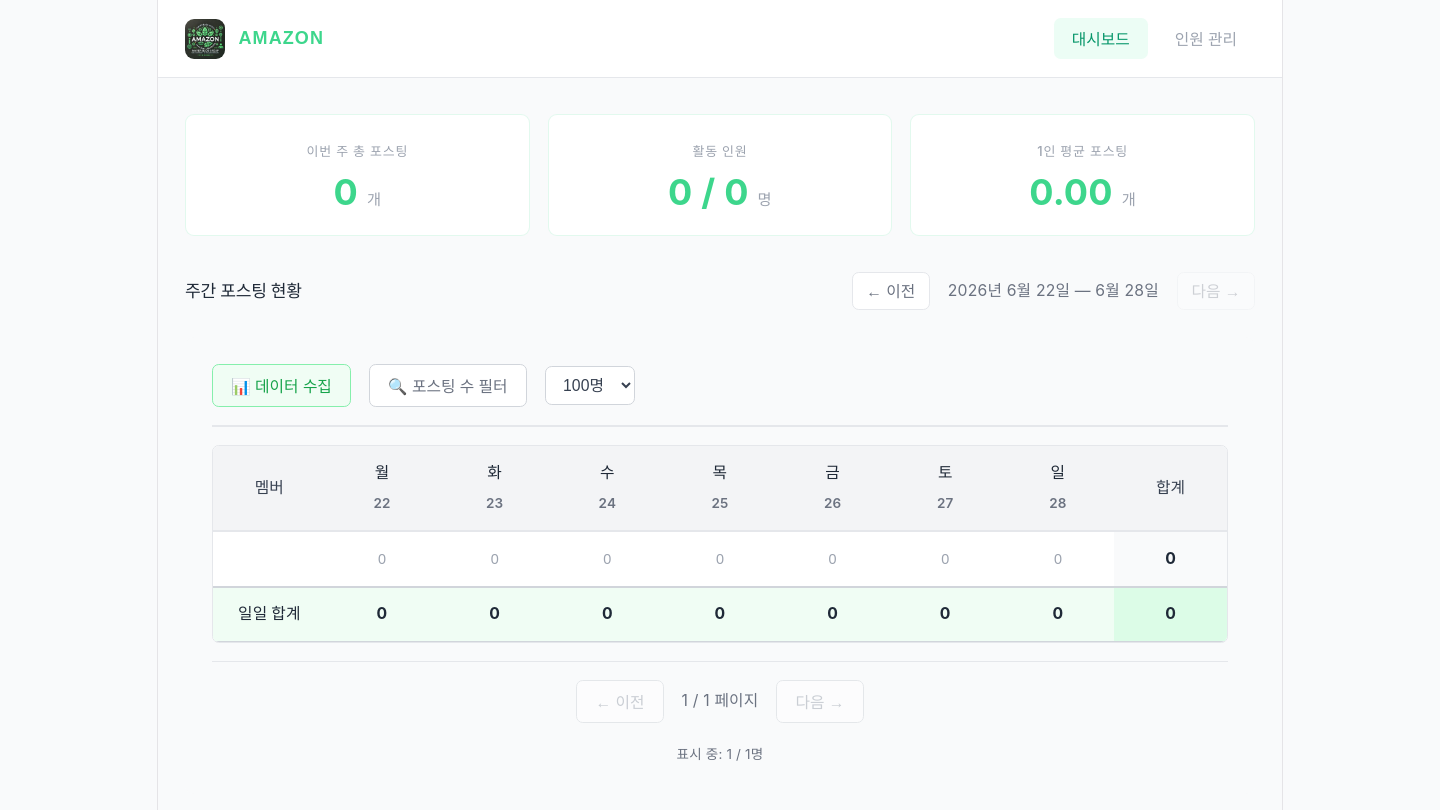
Scenario: App › 탭 전환 › should switch to members tab
What coordinates should you click on to do the following:
click the button "인원 관리"
I would click on:
 (1206, 38)
Its box is [1157,18,1255,59].
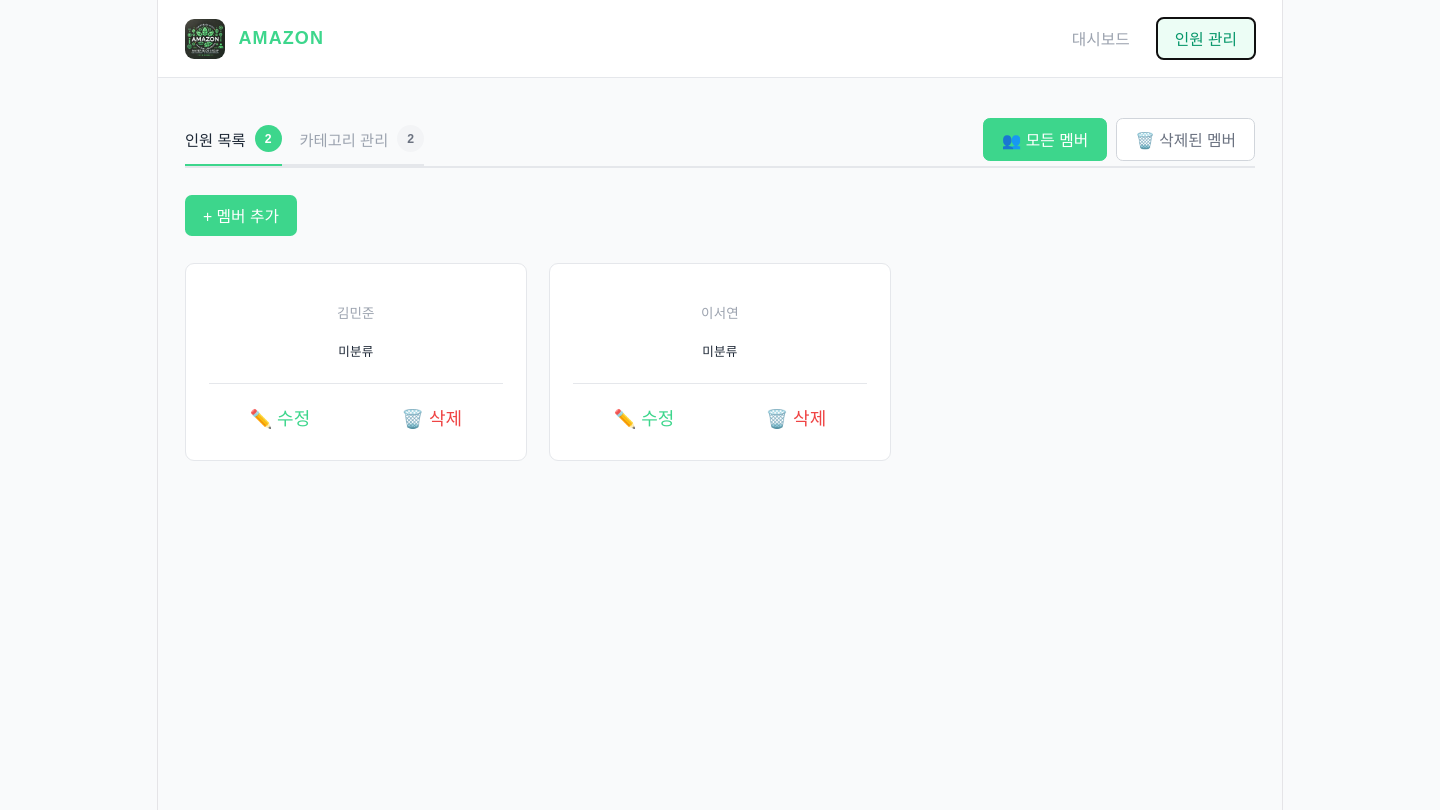
Check: the button "+ 멤버 추가" is shown, box [185,194,297,236]
